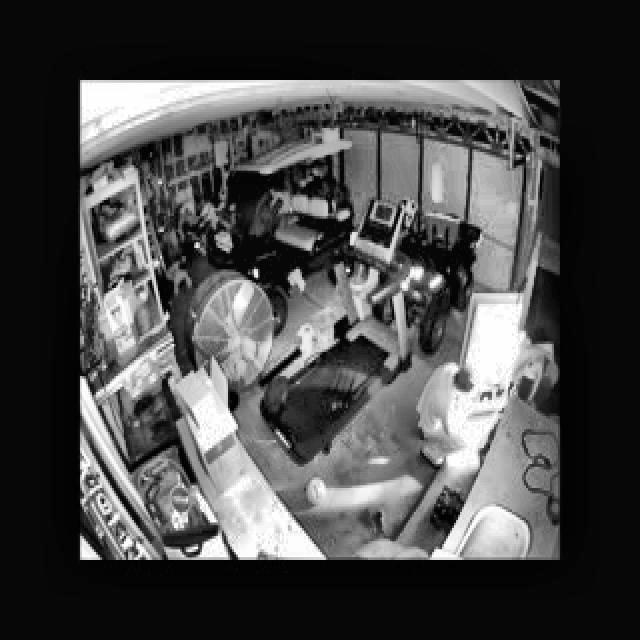burglary: (407, 288, 558, 477)
